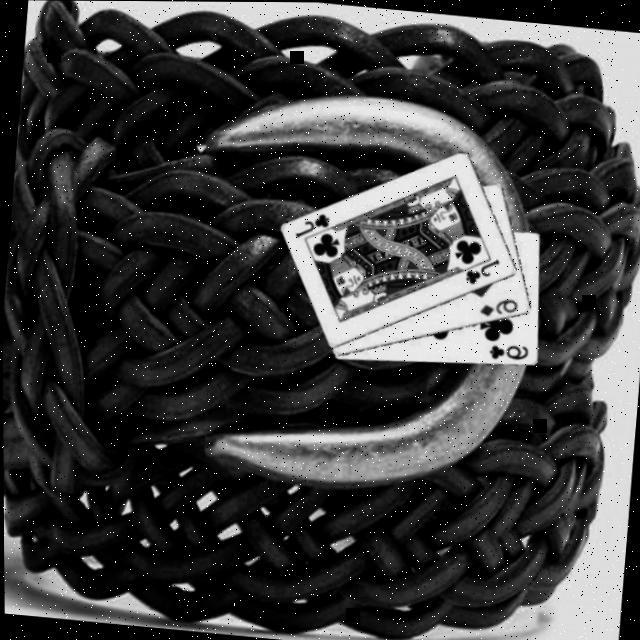6C: (486, 337, 532, 362)
9D: (478, 291, 522, 319)
JC: (292, 206, 334, 242), (462, 251, 503, 286)
